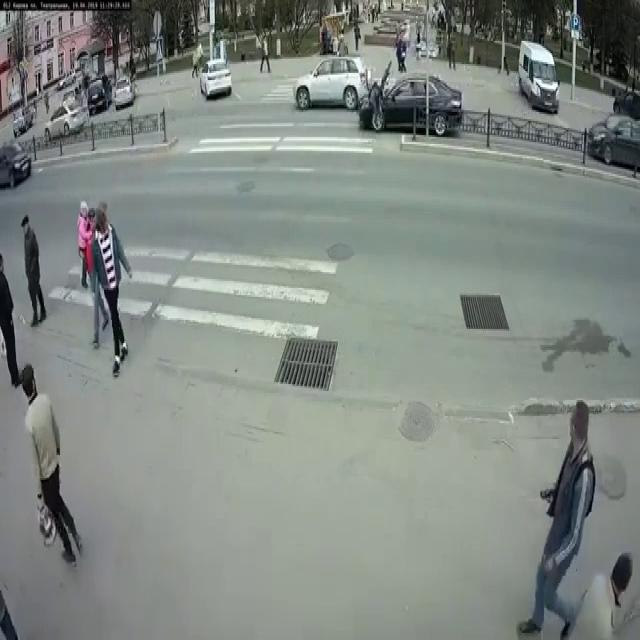severe: (353, 58, 466, 148)
